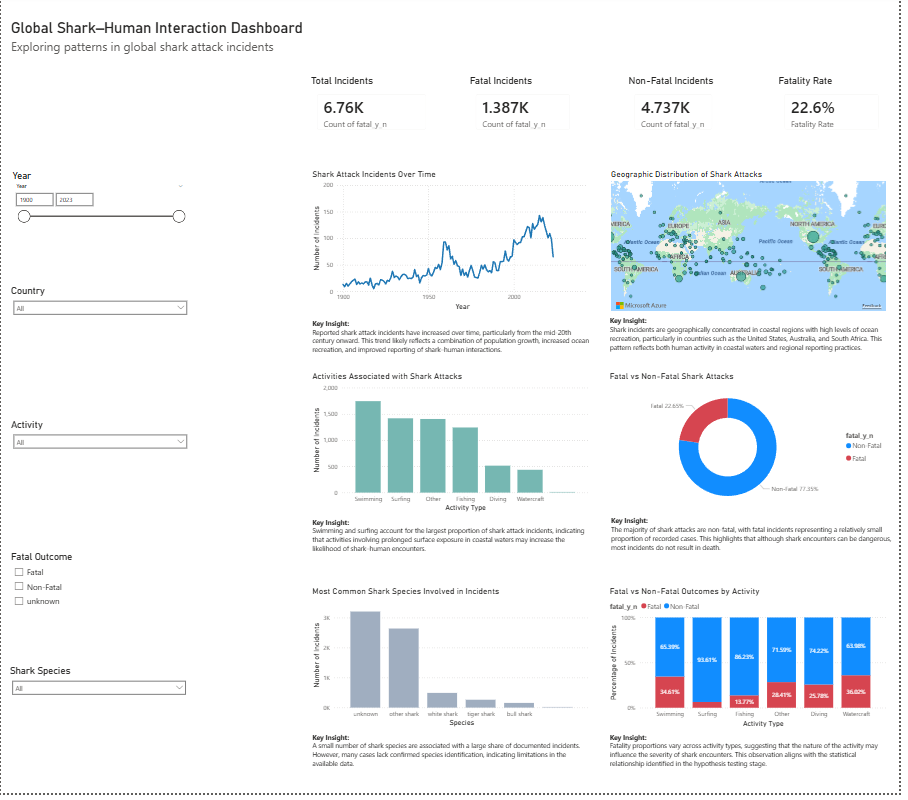

Layout of this report page (visuals, bound fields, positions):
{"tool":"powerbi","page":{"name":"Page 1","canvas":[1800,1600],"ordinal":0},"visuals":[{"type":"lineChart","title":"Shark Attack Incidents Over Time","fields":{"Category":["shark_attacks_cleaned.year"],"Y":["CountNonNull(shark_attacks_cleaned.year)"]},"box":[617.9,348.7,564.1,289.7],"z":0},{"type":"clusteredColumnChart","title":"Activities Associated with Shark Attacks","fields":{"Category":["shark_attacks_cleaned.activity_group"],"Y":["CountNonNull(shark_attacks_cleaned.activity_group)"]},"box":[617.9,753.8,564.1,287.2],"z":1000},{"type":"donutChart","title":"Fatal vs Non-Fatal Shark Attacks","fields":{"Category":["shark_attacks_cleaned.fatal_y_n"],"Y":["CountNonNull(shark_attacks_cleaned.fatal_y_n)"]},"box":[1214.8,754.1,563.9,285.2],"z":2000},{"type":"azureMap","title":"Geographic Distribution of Shark Attacks","fields":{"Category":["shark_attacks_cleaned.country"],"Size":["CountNonNull(shark_attacks_cleaned.country)"]},"box":[1217.9,348.7,561.5,289.7],"z":3000},{"type":"clusteredColumnChart","title":"Most Common Shark Species Involved in Incidents","fields":{"Category":["shark_attacks_cleaned.species_group"],"Y":["CountNonNull(shark_attacks_cleaned.species_group)"]},"box":[617.9,1184.6,564.1,287.2],"z":4000},{"type":"hundredPercentStackedColumnChart","title":"Fatal vs Non-Fatal Outcomes by Activity","fields":{"Category":["shark_attacks_cleaned.activity_group"],"Y":["CountNonNull(shark_attacks_cleaned.fatal_y_n)"],"Series":["shark_attacks_cleaned.fatal_y_n"]},"box":[1215.4,1184.6,564.1,287.2],"z":5000},{"type":"cardVisual","title":"Total Incidents","fields":{"Data":["CountNonNull(shark_attacks_cleaned.fatal_y_n)"]},"box":[616.7,160,253.3,126.7],"z":6000},{"type":"cardVisual","title":"Fatal Incidents","fields":{"Data":["CountNonNull(shark_attacks_cleaned.fatal_y_n)"]},"box":[933.3,160,223.3,126.7],"z":7000},{"type":"cardVisual","title":"Non-Fatal Incidents","fields":{"Data":["CountNonNull(shark_attacks_cleaned.fatal_y_n)"]},"box":[1253.3,160,190,126.7],"z":8000},{"type":"cardVisual","title":"Fatality Rate","fields":{"Data":["shark_attacks_cleaned.Fatality Rate %"]},"box":[1553.3,160,223.3,126.7],"z":9000},{"type":"slicer","title":"Year","fields":{"Values":["shark_attacks_cleaned.year"]},"box":[16.7,350,360,143.3],"z":10000},{"type":"slicer","title":"Country","fields":{"Values":["shark_attacks_cleaned.country"]},"box":[16.2,581.2,367.5,160],"z":11000},{"type":"slicer","title":"Activity","fields":{"Values":["shark_attacks_cleaned.activity_group"]},"box":[16.2,850,367.5,160],"z":12000},{"type":"slicer","title":"Fatal Outcome","fields":{"Values":["shark_attacks_cleaned.fatal_y_n"]},"box":[16.2,1113.8,367.5,142.5],"z":13000},{"type":"slicer","title":"Shark Species","fields":{"Values":["shark_attacks_cleaned.species_group"]},"box":[12.5,1343.8,367.5,142.5],"z":14000},{"type":"textbox","title":"Global Shark–Human Interaction Dashboard","box":[16,48,704,80],"z":15000},{"type":"textbox","box":[617.5,642.5,565,87.5],"z":16000},{"type":"textbox","box":[1215,637.5,585,92.5],"z":16001},{"type":"textbox","box":[617.5,1041.2,565,86.2],"z":16002},{"type":"textbox","box":[1217.5,1038.8,582.5,88.8],"z":16003},{"type":"textbox","box":[617.5,1472.5,565,87.5],"z":16004},{"type":"textbox","box":[1215,1472.5,562.5,87.5],"z":16005}]}

Visuals, with their boxes in screenshot pixels (x1, y1, x2, y2), scaled from the page's 1800x1600 canvas onto the 908x800 screenshot:
"Shark Attack Incidents Over Time" lineChart: [x1=312, y1=174, x2=596, y2=319]
"Activities Associated with Shark Attacks" clusteredColumnChart: [x1=312, y1=377, x2=596, y2=520]
"Fatal vs Non-Fatal Shark Attacks" donutChart: [x1=613, y1=377, x2=897, y2=520]
"Geographic Distribution of Shark Attacks" azureMap: [x1=614, y1=174, x2=898, y2=319]
"Most Common Shark Species Involved in Incidents" clusteredColumnChart: [x1=312, y1=592, x2=596, y2=736]
"Fatal vs Non-Fatal Outcomes by Activity" hundredPercentStackedColumnChart: [x1=613, y1=592, x2=898, y2=736]
"Total Incidents" cardVisual: [x1=311, y1=80, x2=439, y2=143]
"Fatal Incidents" cardVisual: [x1=471, y1=80, x2=583, y2=143]
"Non-Fatal Incidents" cardVisual: [x1=632, y1=80, x2=728, y2=143]
"Fatality Rate" cardVisual: [x1=784, y1=80, x2=896, y2=143]
"Year" slicer: [x1=8, y1=175, x2=190, y2=247]
"Country" slicer: [x1=8, y1=291, x2=194, y2=371]
"Activity" slicer: [x1=8, y1=425, x2=194, y2=505]
"Fatal Outcome" slicer: [x1=8, y1=557, x2=194, y2=628]
"Shark Species" slicer: [x1=6, y1=672, x2=192, y2=743]
"Global Shark–Human Interaction Dashboard" textbox: [x1=8, y1=24, x2=363, y2=64]
textbox: [x1=311, y1=321, x2=597, y2=365]
textbox: [x1=613, y1=319, x2=907, y2=365]
textbox: [x1=311, y1=521, x2=597, y2=564]
textbox: [x1=614, y1=519, x2=907, y2=564]
textbox: [x1=311, y1=736, x2=597, y2=780]
textbox: [x1=613, y1=736, x2=897, y2=780]
